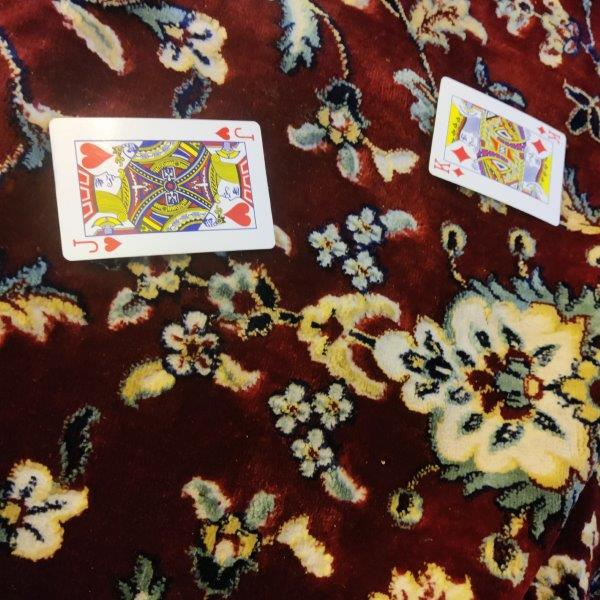Jack of Hearts: (48, 118, 277, 261)
King of Diamonds: (429, 77, 566, 228)
